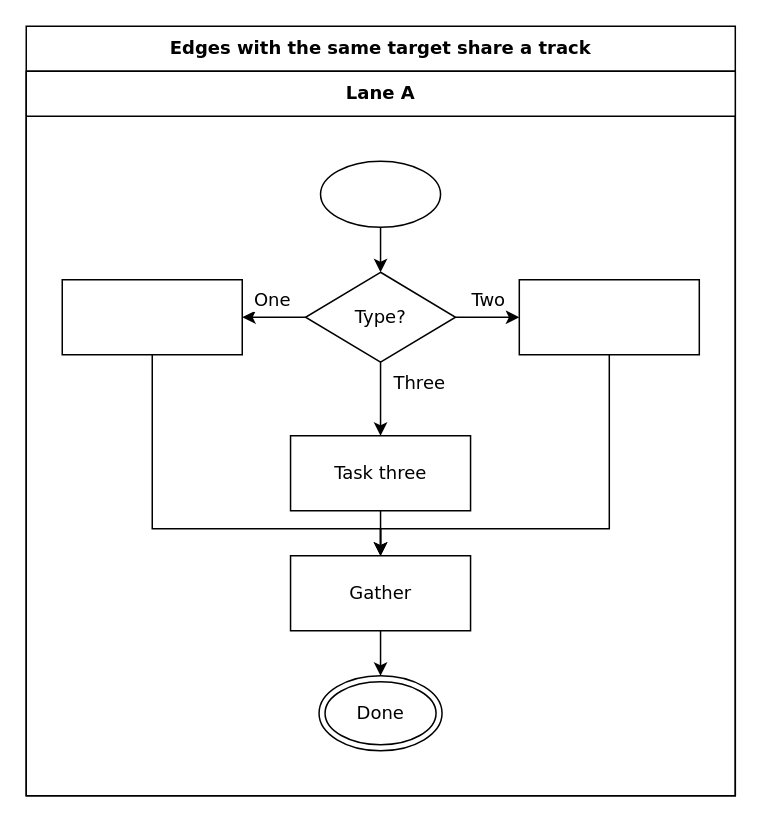
Some shapes in this 762 by 822 pixel diagram are drawn without their labels. Each missing label, with the centre of its shape:
"Enter" goes at point 380,193.
"Task one" goes at point 151,316.
"Task two" goes at point 608,316.
